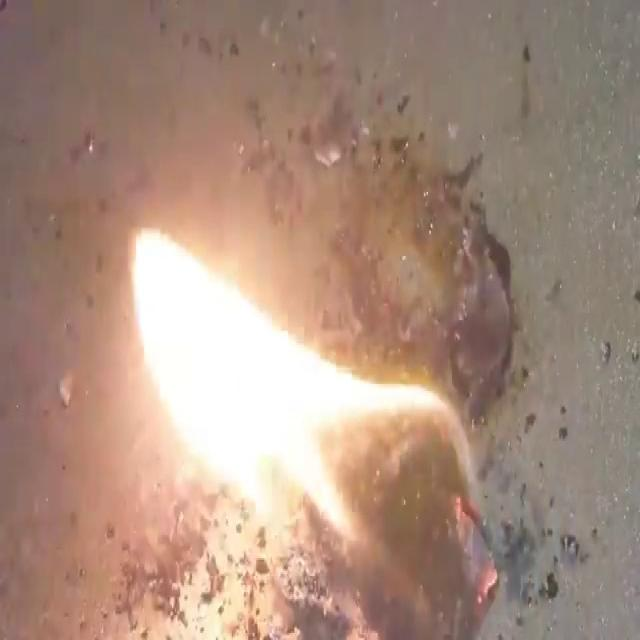Fire: (126, 218, 494, 634)
